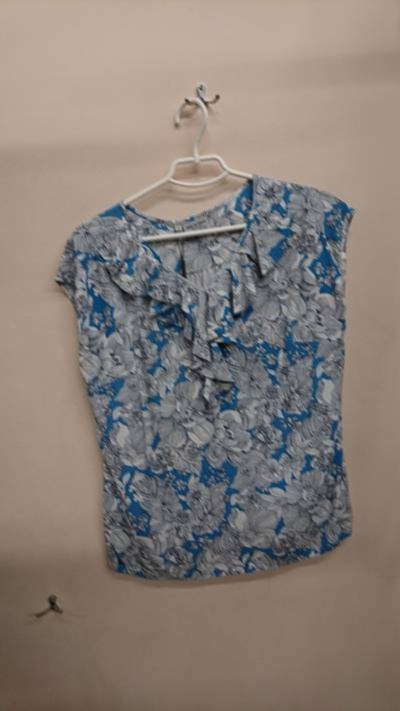Blouse: (51, 152, 380, 593)
